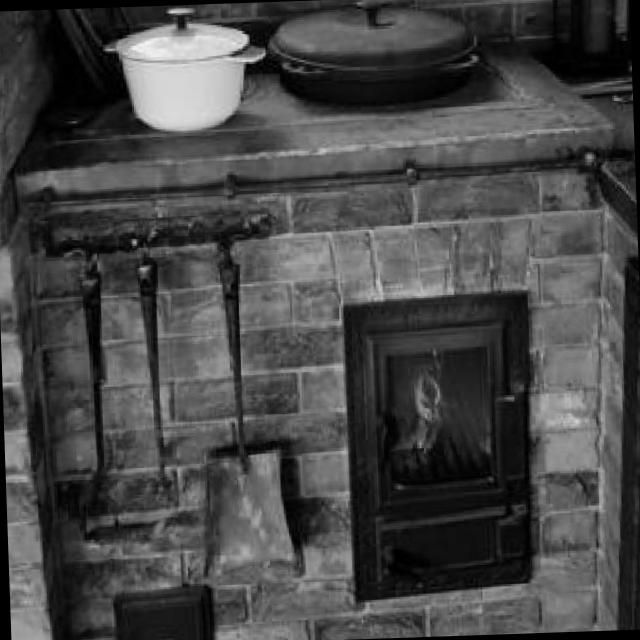fire: (395, 334, 458, 470)
